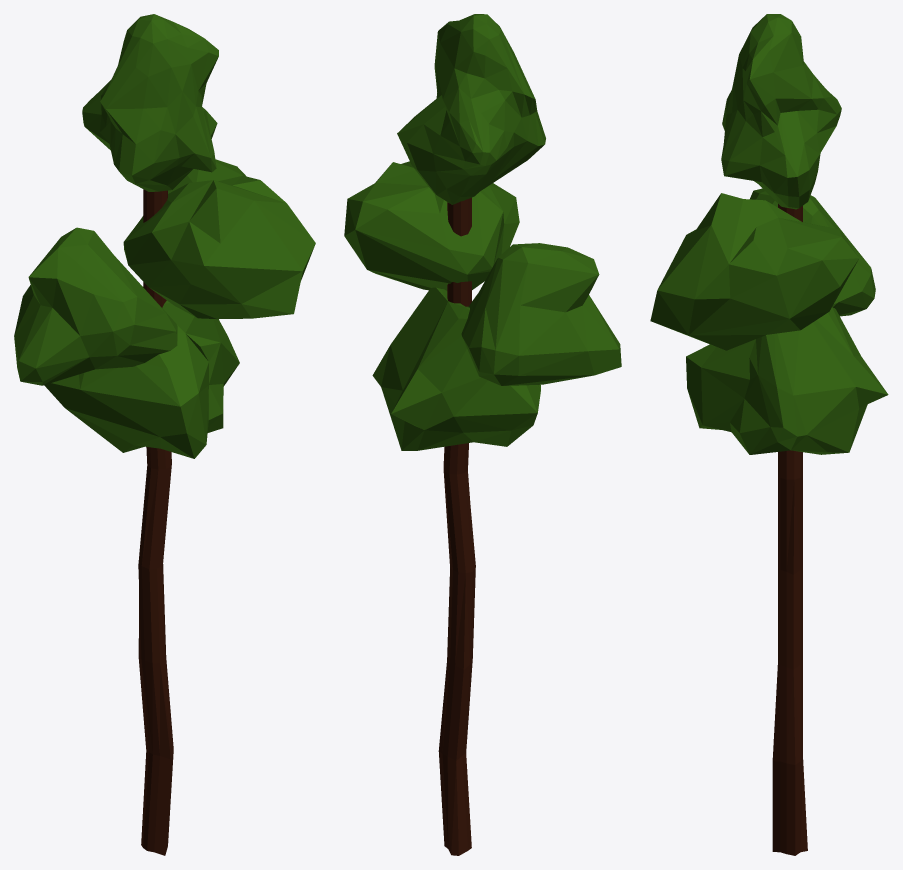
The model's file is Pine1.obj.
The picture shows the model from 3 angles, left to right: view 1: azimuth 30°, elevation 25°; view 2: azimuth 150°, elevation 25°; view 3: azimuth 270°, elevation 25°; orthographic projection.
Visible parts, largest first — view 1: Cylinder; view 2: Cylinder; view 3: Cylinder.
Boxes of the visible parts, bbox=[...] form: Cylinder: bbox=[14, 14, 315, 855]; Cylinder: bbox=[344, 14, 621, 855]; Cylinder: bbox=[650, 14, 888, 855].
Bounding box in the file's own units: 12.79 × 39.35 × 10.23.
